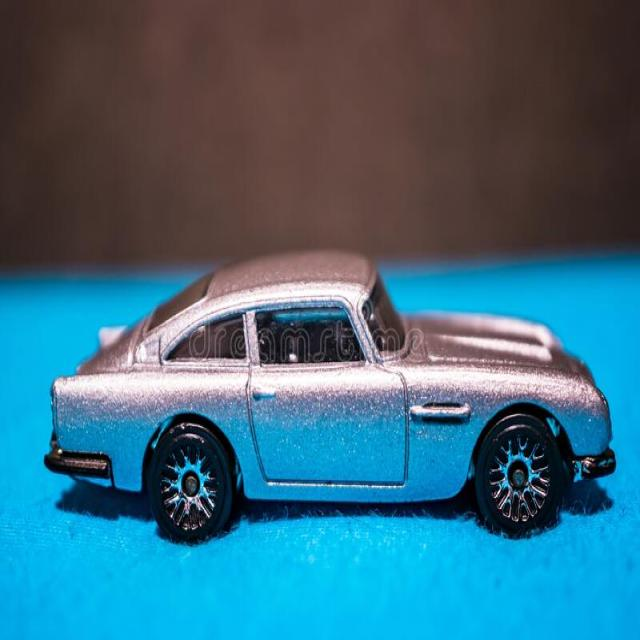Car: (45, 253, 615, 541)
